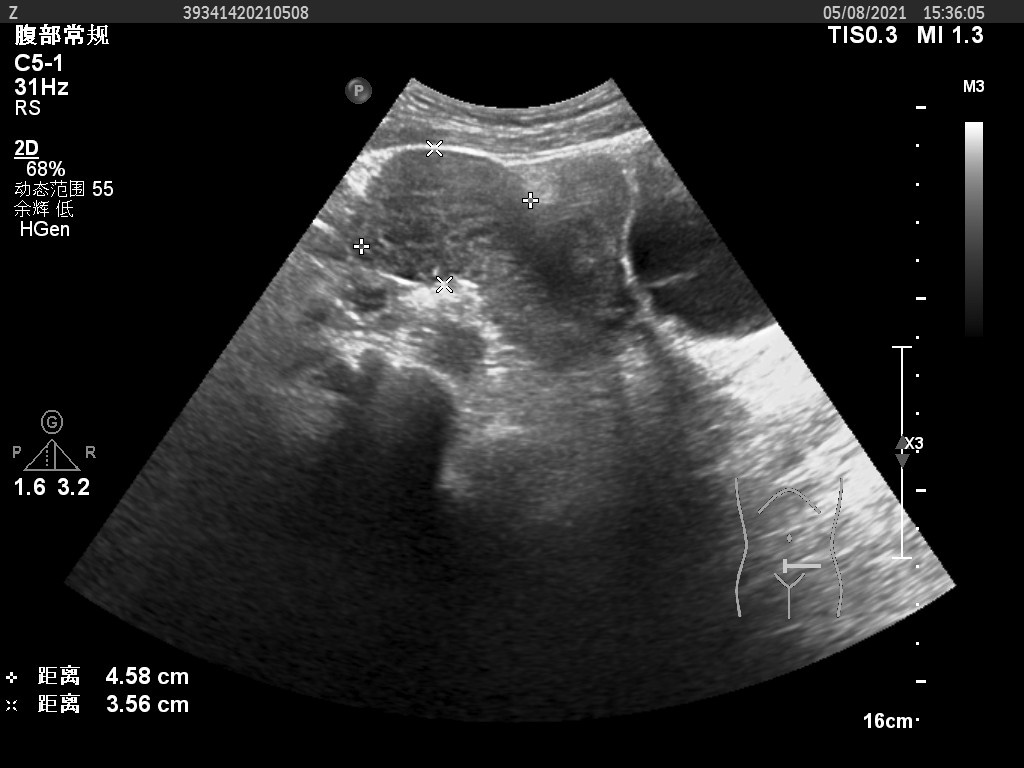肌瘤: (362, 146, 532, 286)
